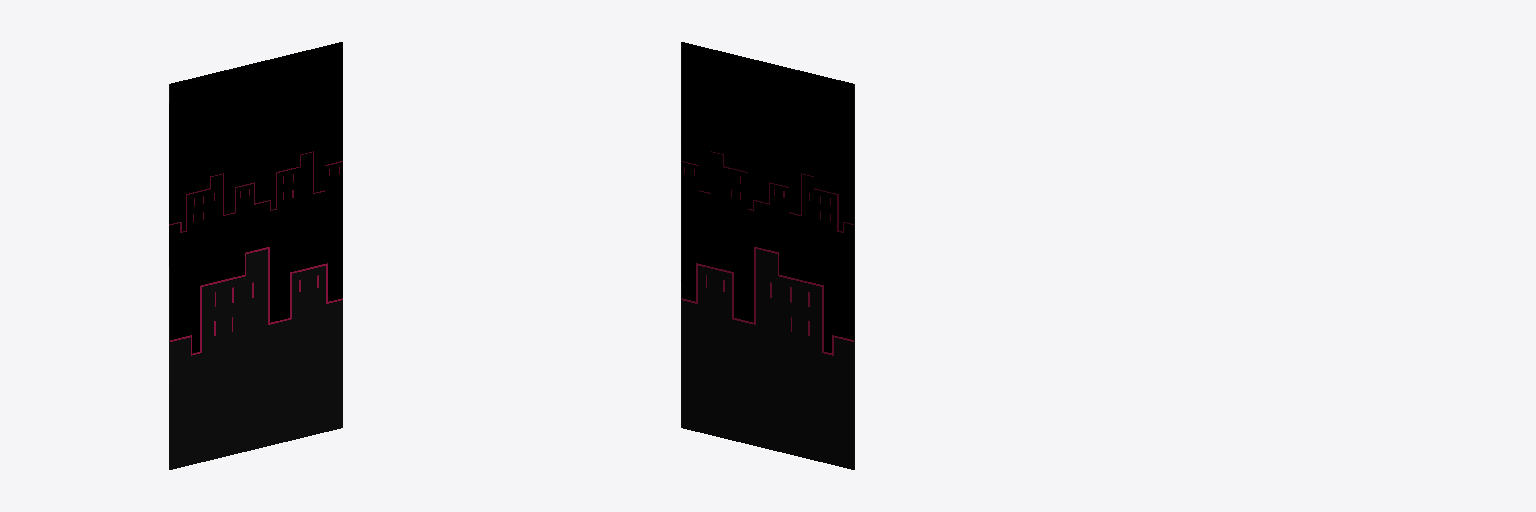
3 renders of one model, left to right at view 1: azimuth 30°, elevation 25°; view 2: azimuth 150°, elevation 25°; view 3: azimuth 270°, elevation 25°, orthographic.
Visible parts, largest first — view 1: Cube; view 2: Cube; view 3: none.
Part boxes in pixels (bbox=[...]): Cube: bbox=[169, 42, 342, 469]; Cube: bbox=[681, 42, 854, 469].
Size of the model in its own units: 160 by 340 by 0.2.
Materials: 1 (1 with a texture image).